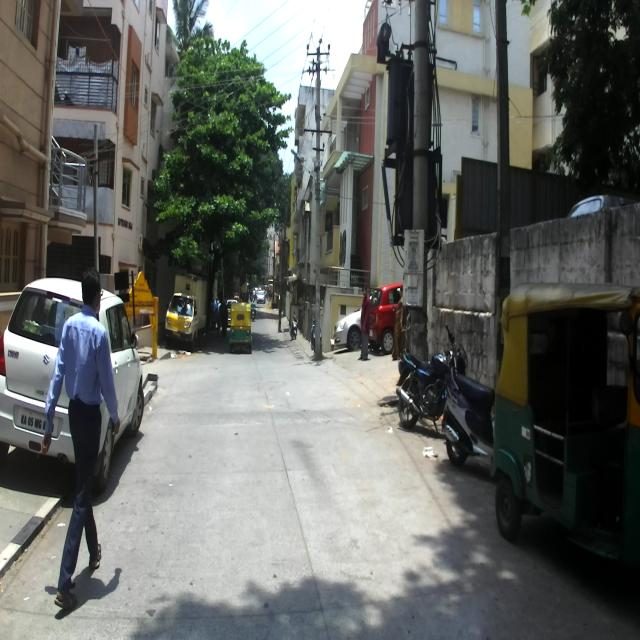auto ahead at: (492, 289, 640, 586)
motorcycle ahead at: (396, 332, 458, 426)
person ahead at: (40, 273, 121, 607)
